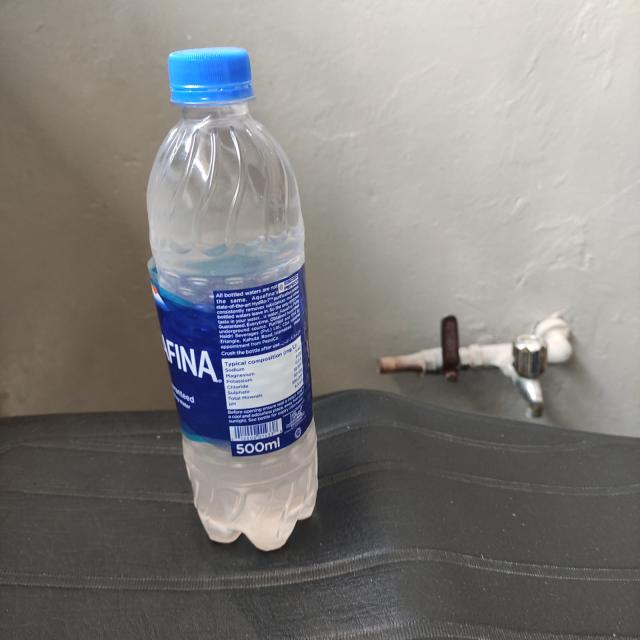bottle: (157, 46, 326, 551)
cap: (167, 49, 250, 112)
label: (160, 278, 315, 440)
